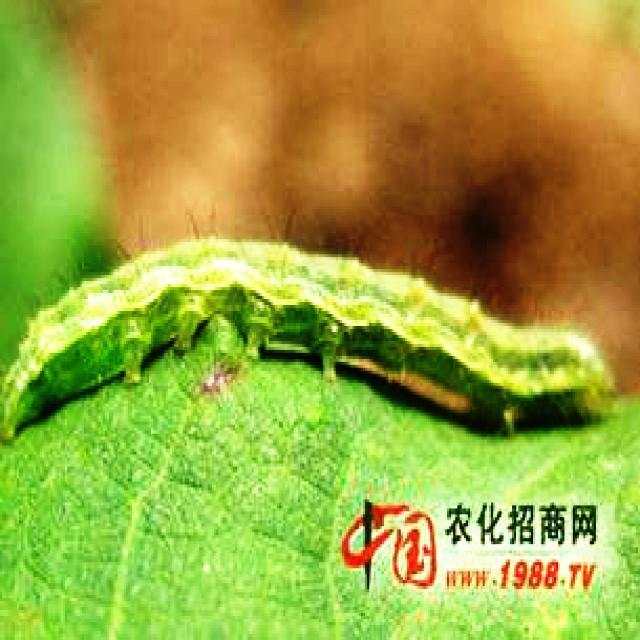leaf-folder: (0, 214, 614, 460)
